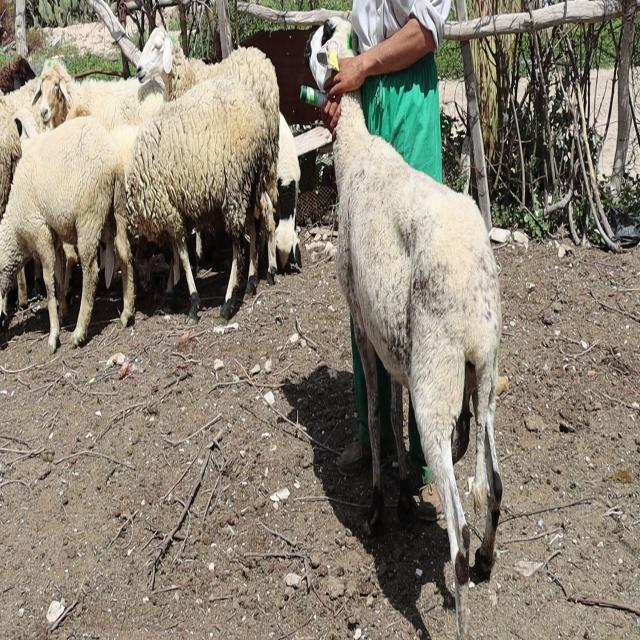Score_3: (333, 92, 502, 639)
